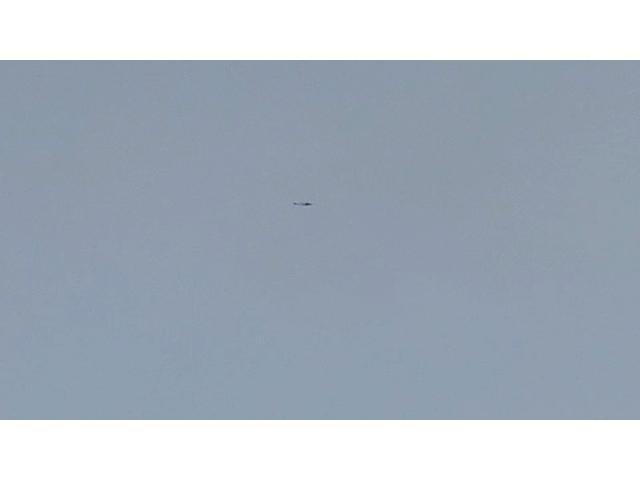Anti-Drone: (293, 199, 315, 209)
